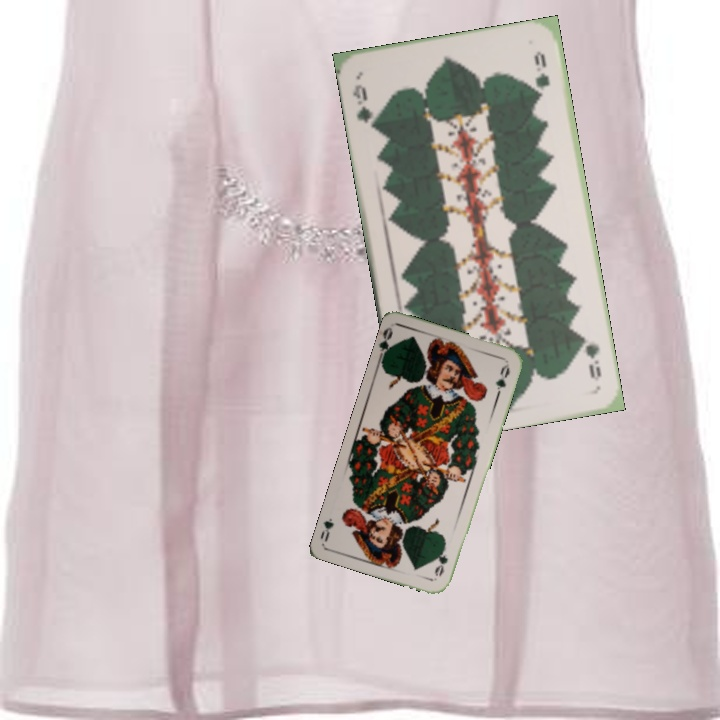G9: (348, 80, 380, 132), (576, 330, 604, 381)
GO: (374, 324, 398, 364), (431, 540, 451, 579)
